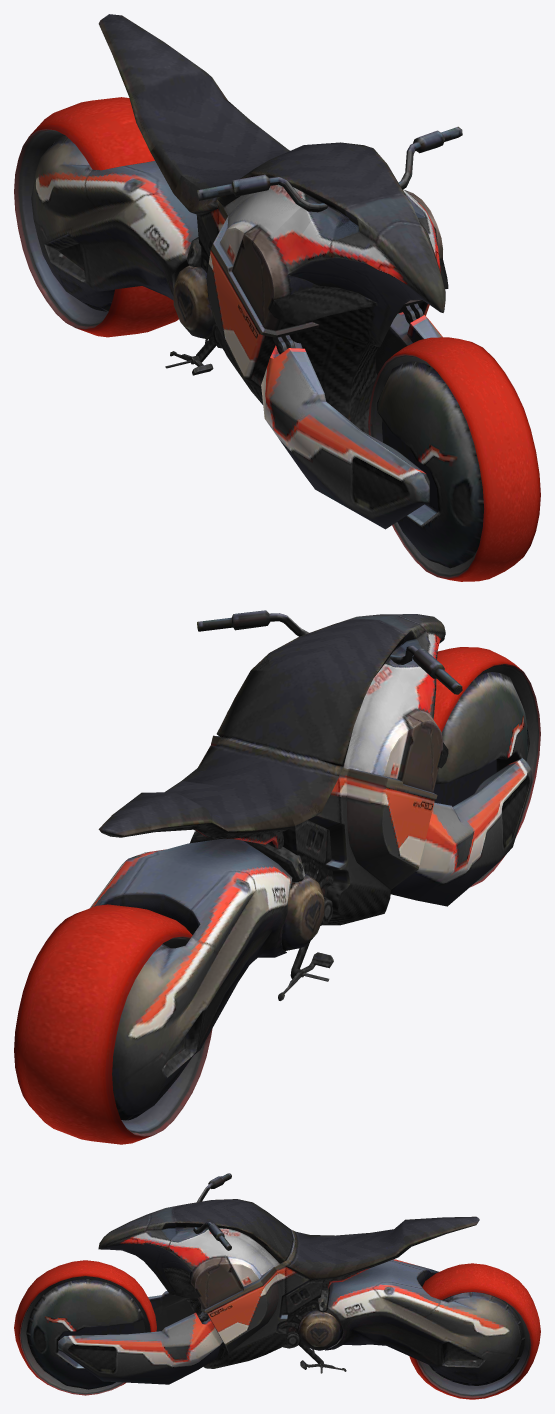
File: motor6.glb
3 renders of one model, top to bottom at view 1: azimuth 30°, elevation 25°; view 2: azimuth 150°, elevation 25°; view 3: azimuth 270°, elevation 25°, orthographic. The views are drawn at different scales.
Parts seen in each view (by area): view 1: MOTO_Body_LOD0, MOTO_Body_LOD0.001, FrontWheel_LOD0, RearWheel_LOD0; view 2: MOTO_Body_LOD0, MOTO_Body_LOD0.001, RearWheel_LOD0, FrontWheel_LOD0; view 3: MOTO_Body_LOD0, MOTO_Body_LOD0.001, RearWheel_LOD0, FrontWheel_LOD0.
Part boxes in pixels (bbox=[...]): MOTO_Body_LOD0: bbox=[31, 14, 483, 568]; MOTO_Body_LOD0.001: bbox=[34, 14, 483, 567]; FrontWheel_LOD0: bbox=[368, 337, 540, 581]; RearWheel_LOD0: bbox=[14, 97, 178, 337]; MOTO_Body_LOD0: bbox=[89, 610, 532, 1120]; MOTO_Body_LOD0.001: bbox=[92, 611, 528, 1118]; RearWheel_LOD0: bbox=[14, 904, 212, 1144]; FrontWheel_LOD0: bbox=[433, 647, 540, 887]; MOTO_Body_LOD0: bbox=[26, 1173, 524, 1389]; MOTO_Body_LOD0.001: bbox=[27, 1173, 522, 1388]; RearWheel_LOD0: bbox=[409, 1263, 540, 1399]; FrontWheel_LOD0: bbox=[14, 1260, 156, 1395].
Size of the model in its own units: 0.6579 by 0.801 by 1.99.
Materials: 1 (1 with a texture image).
